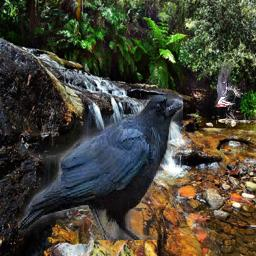Crow: (19, 96, 184, 241)
Woodpecker: (215, 63, 244, 108)
